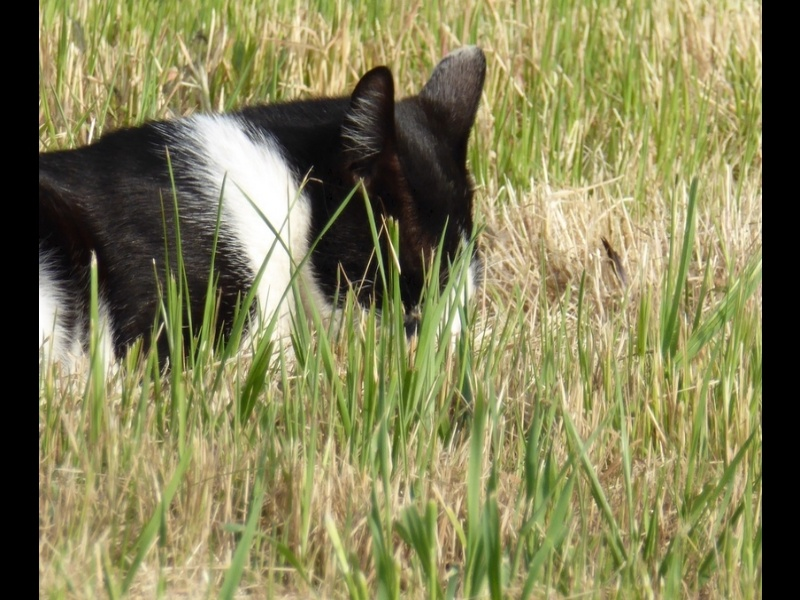cat: (39, 39, 493, 425)
